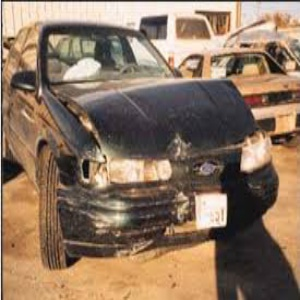bonnet: (77, 84, 255, 147)
bumper: (59, 182, 173, 260)
